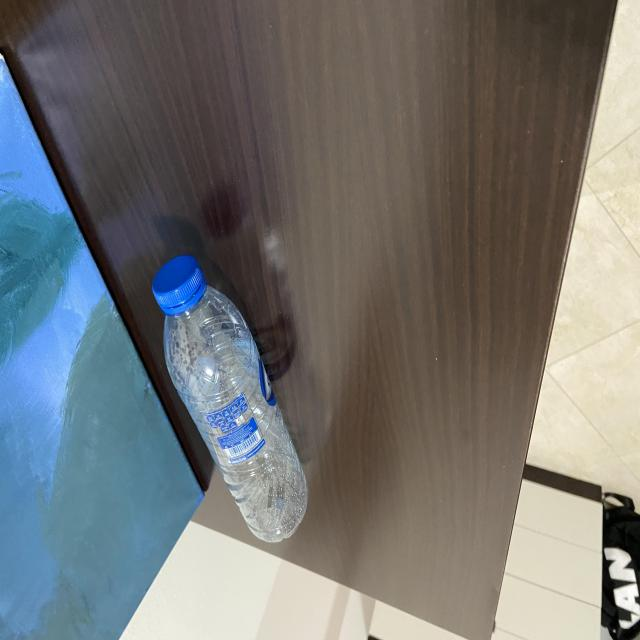bottle: (137, 250, 323, 566)
